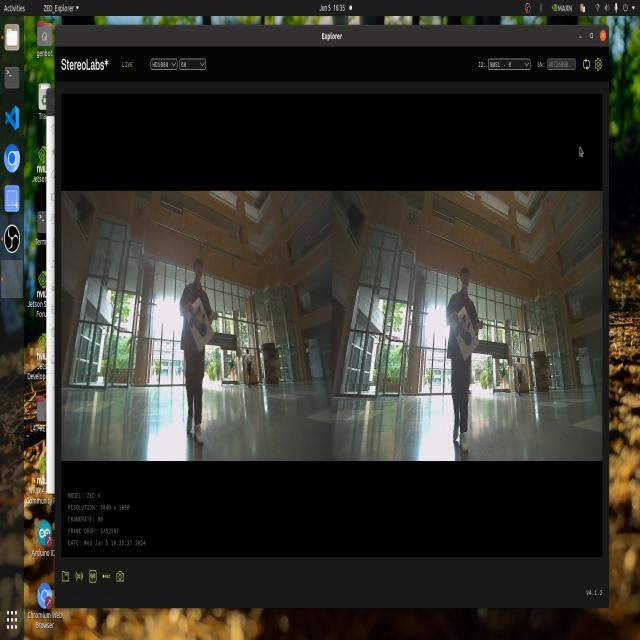blue: (186, 301, 212, 347), (452, 315, 474, 345)
